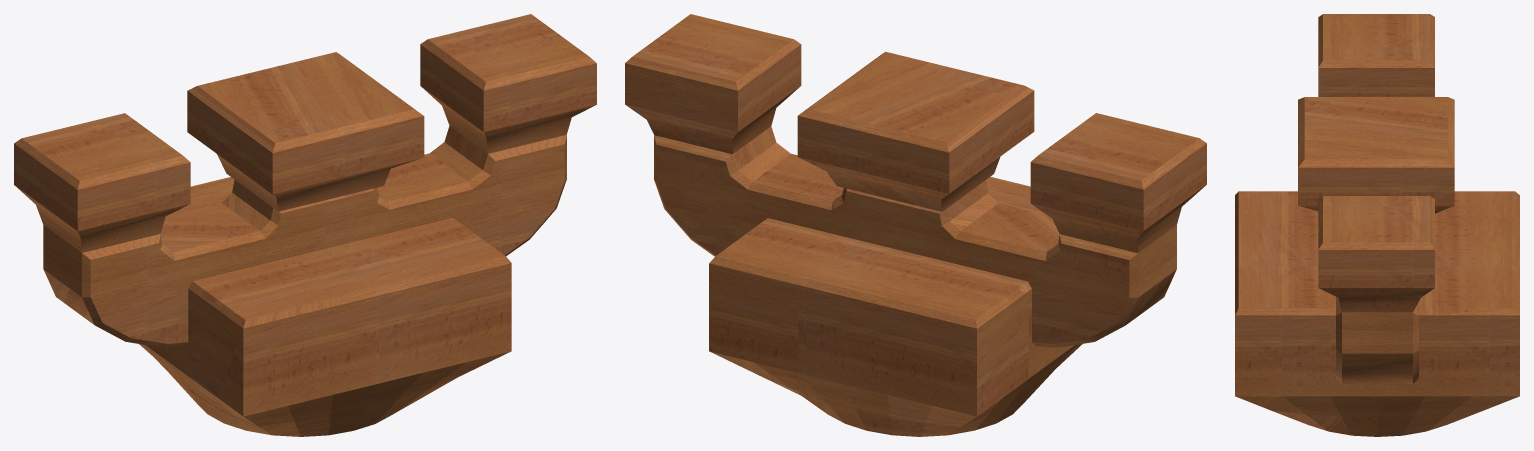
The picture shows the model from 3 angles, left to right: view 1: azimuth 30°, elevation 25°; view 2: azimuth 150°, elevation 25°; view 3: azimuth 270°, elevation 25°; orthographic projection. The views are drawn at different scales.
Visible parts, largest first — view 1: R3L1; view 2: R3L1; view 3: R3L1.
Part boxes in pixels (left/top/right/bottom): R3L1: left=14, top=14, right=596, bottom=436; R3L1: left=625, top=14, right=1206, bottom=436; R3L1: left=1235, top=14, right=1519, bottom=436.
Size of the model in its own units: 30.58 by 16.51 by 15.81.
1 material, 1 textured.
